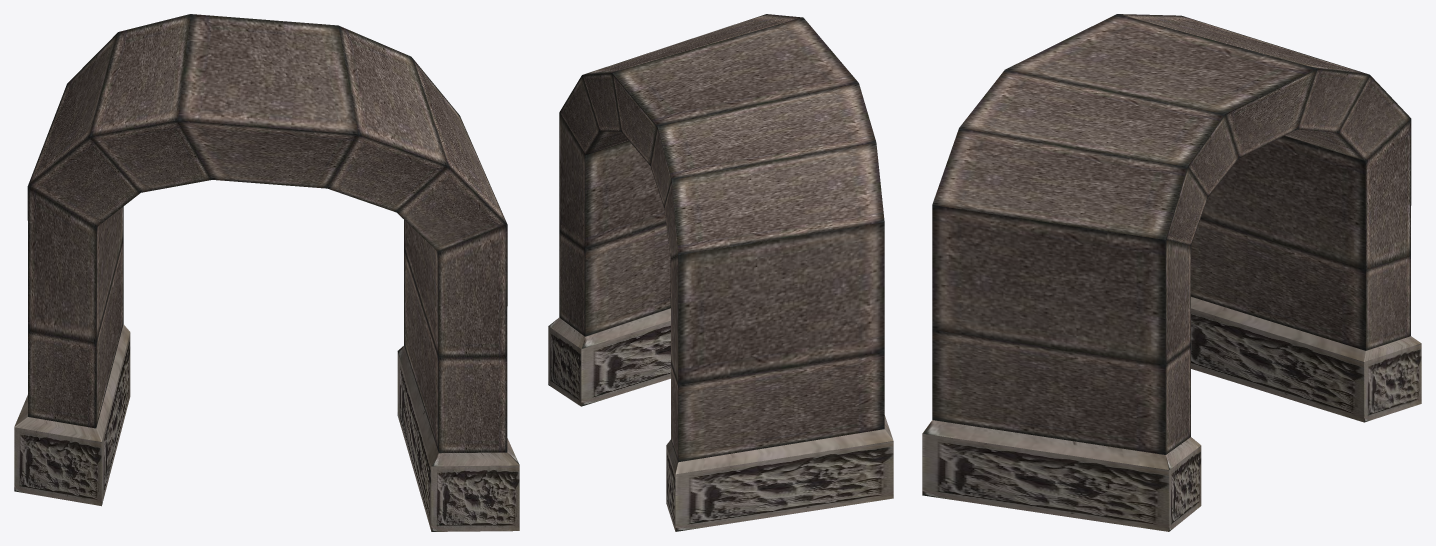
The model's file is doorx34.obj.
3 views of the same model, side by side, from view 1: azimuth 30°, elevation 25°; view 2: azimuth 150°, elevation 25°; view 3: azimuth 270°, elevation 25° (orthographic). The views are drawn at different scales.
Parts seen in each view (by area): view 1: doorx34; view 2: doorx34; view 3: doorx34.
Part boxes in pixels (bbox=[...]): doorx34: bbox=[14, 14, 519, 531]; doorx34: bbox=[548, 14, 893, 531]; doorx34: bbox=[922, 14, 1421, 531].
Size of the model in its own units: 147 by 131 by 160.
